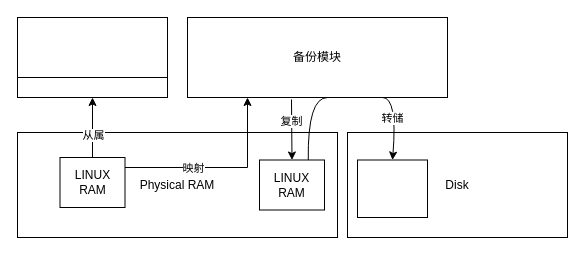
This 585x255 diagram has some shape labels left out. The centre of each missing label's shape, as x and y in pixels:
"LINUX" belongs at [92,47].
"LINUX SNAPSHORT" belongs at [392,188].
"VMM" belongs at [92,87].
